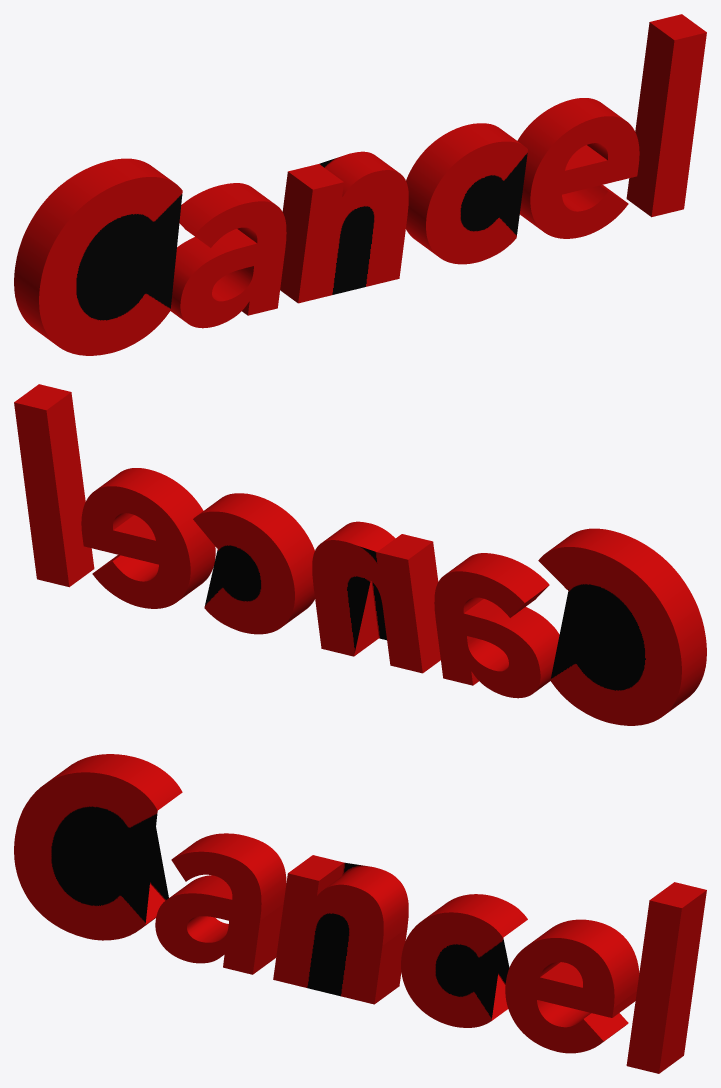
File: Cancel.fbx
3 renders of one model, top to bottom at view 1: azimuth 30°, elevation 25°; view 2: azimuth 150°, elevation 25°; view 3: azimuth 330°, elevation 25°, orthographic.
Parts seen in each view (by area): view 1: Cap_1, Extrude_NURBS_1; view 2: Cap_2, Extrude_NURBS_1; view 3: Cap_1, Extrude_NURBS_1, Cap_2.
Boxes of the visible parts, <box> form: Cap_1: <box>39,32,706,355</box>; Extrude_NURBS_1: <box>14,14,706,345</box>; Cap_2: <box>14,402,681,725</box>; Extrude_NURBS_1: <box>14,384,706,715</box>; Cap_1: <box>14,772,681,1073</box>; Extrude_NURBS_1: <box>47,754,706,1073</box>; Cap_2: <box>150,827,509,985</box>.
Size of the model in its own units: 617 by 155 by 40.
Materials: 3 (3 with a texture image).
